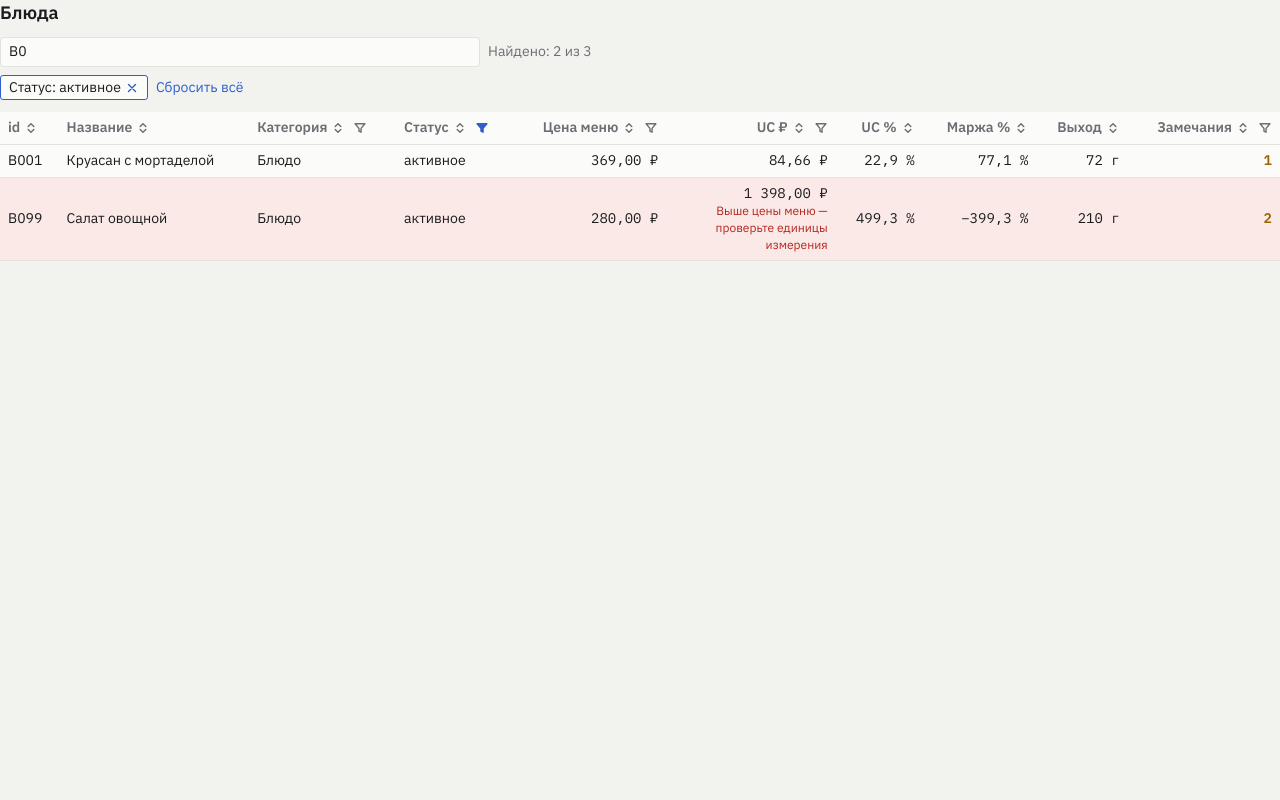
старая ссылка ?search=…&status=активное: тот же отбор, одним запросом без параметров
expect the text "Найдено: 2 из 3" is shown: met, box [488, 42, 592, 62]
expect the button with aria-label "Снять фильтр «Статус: активное»" is shown: met, box [0, 75, 148, 100]
Click the button named "Фильтр: Статус, выбрано 1".
click(482, 128)  # box [471, 117, 493, 139]
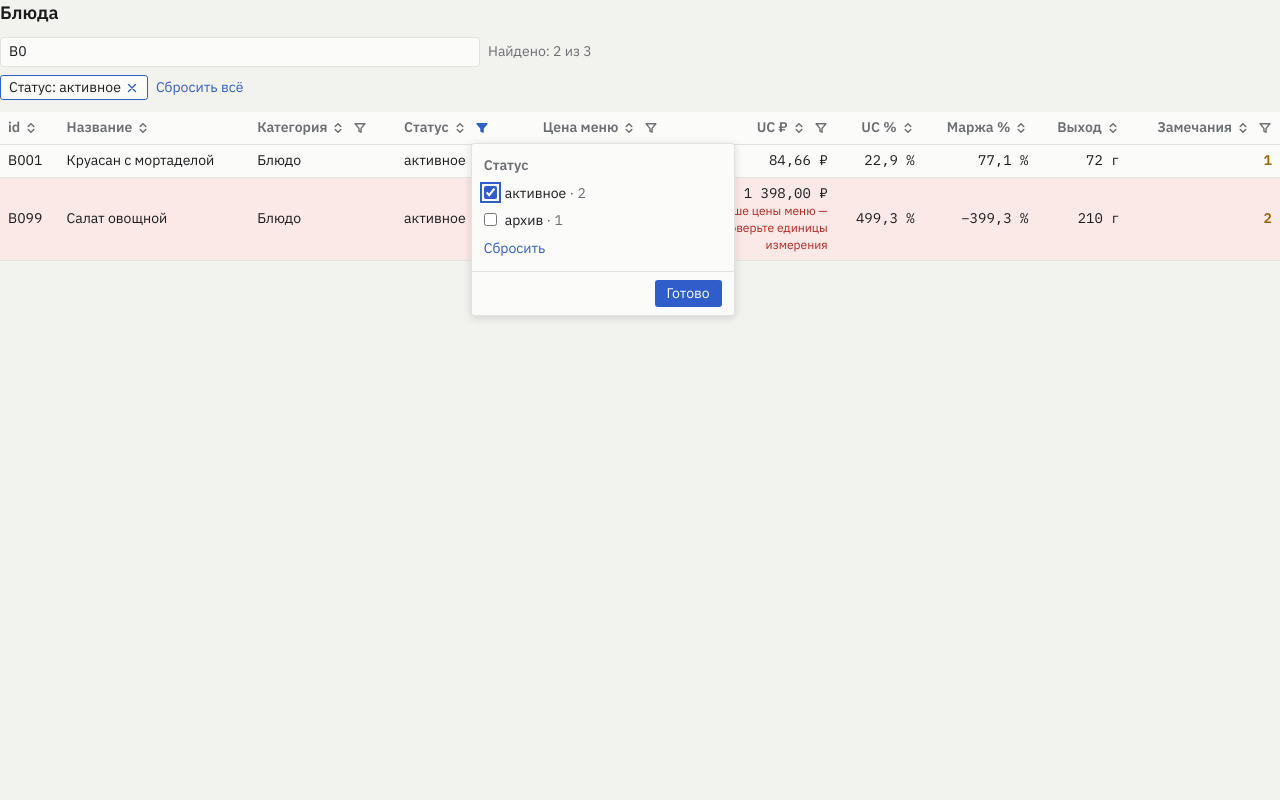
expect the checkbox labelled "архив · 1" is not checked: met, box [484, 213, 497, 226]
expect the checkbox labelled "активное · 2" is checked: met, box [484, 186, 497, 199]
